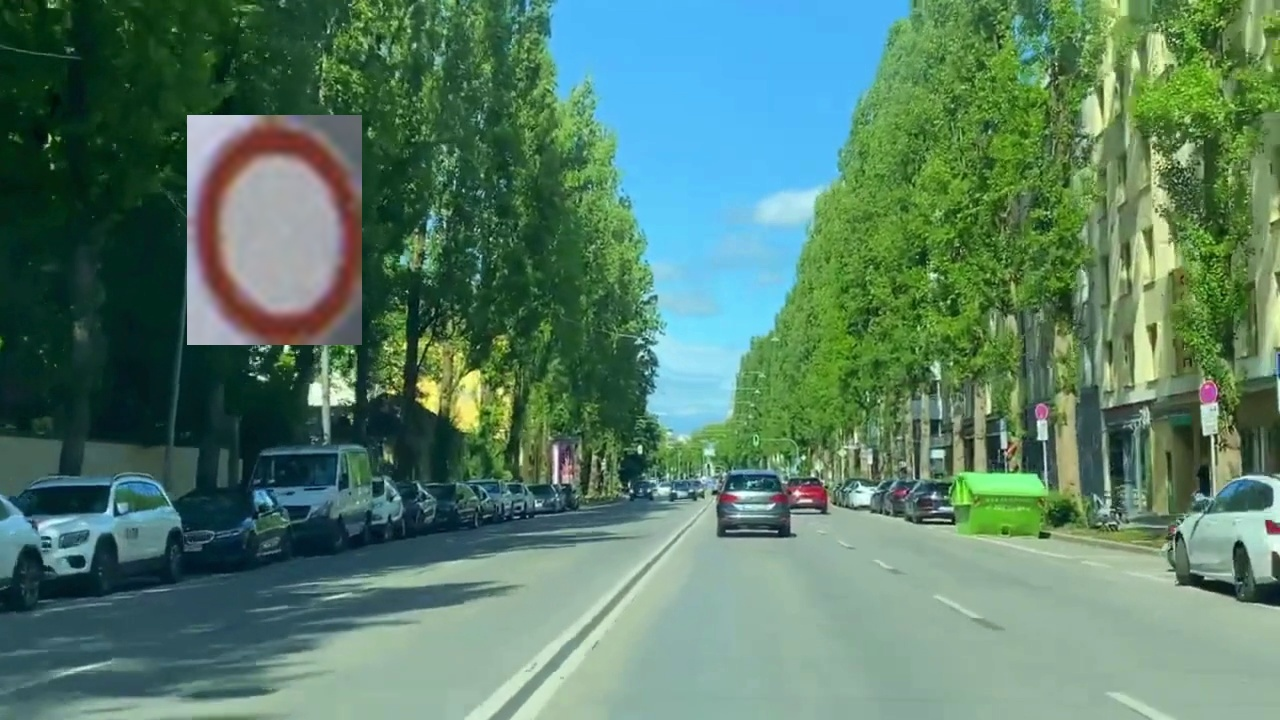No vehicles: (187, 115, 362, 345)
